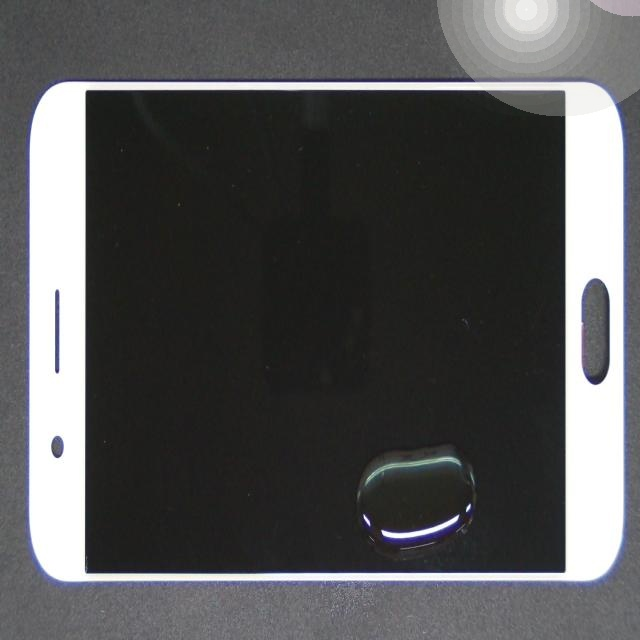oil: (271, 276, 640, 640)
